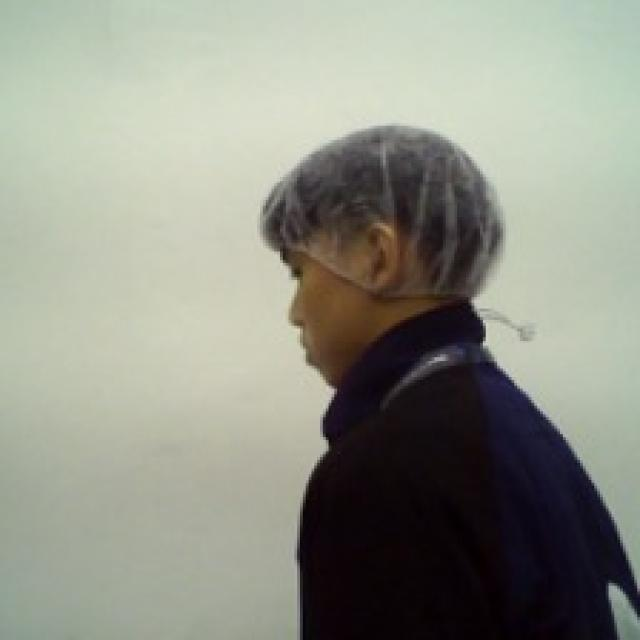gloves: (256, 124, 512, 304)
no_hairnet: (274, 219, 409, 392)
